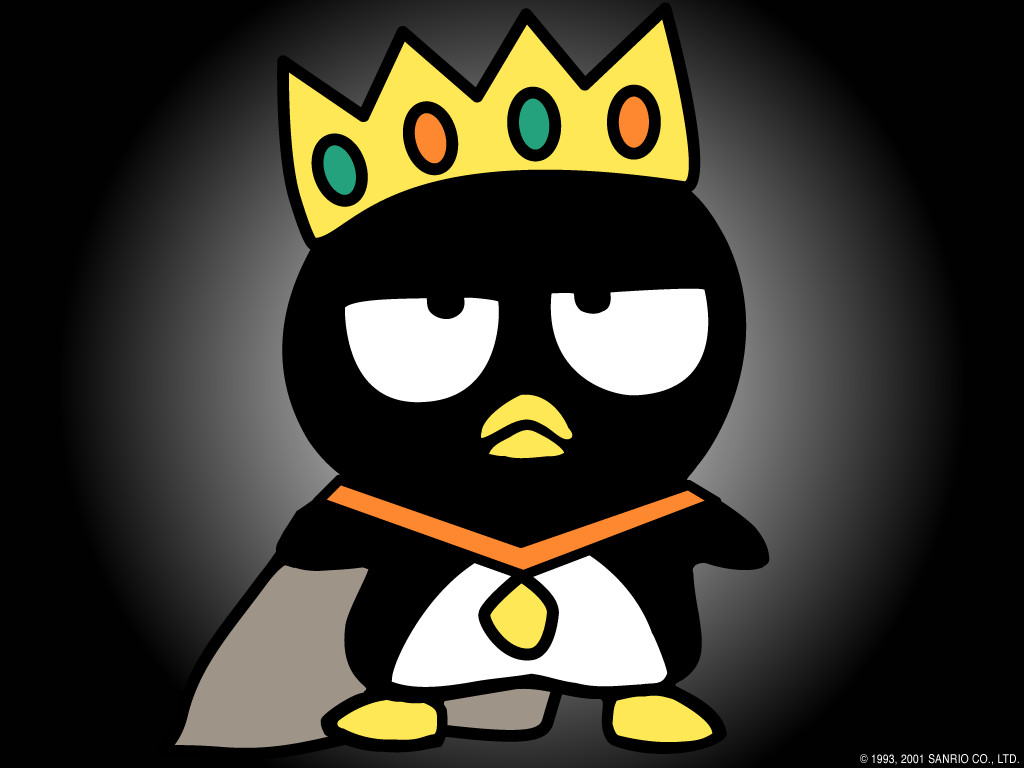batsumaru: (276, 17, 770, 751)
